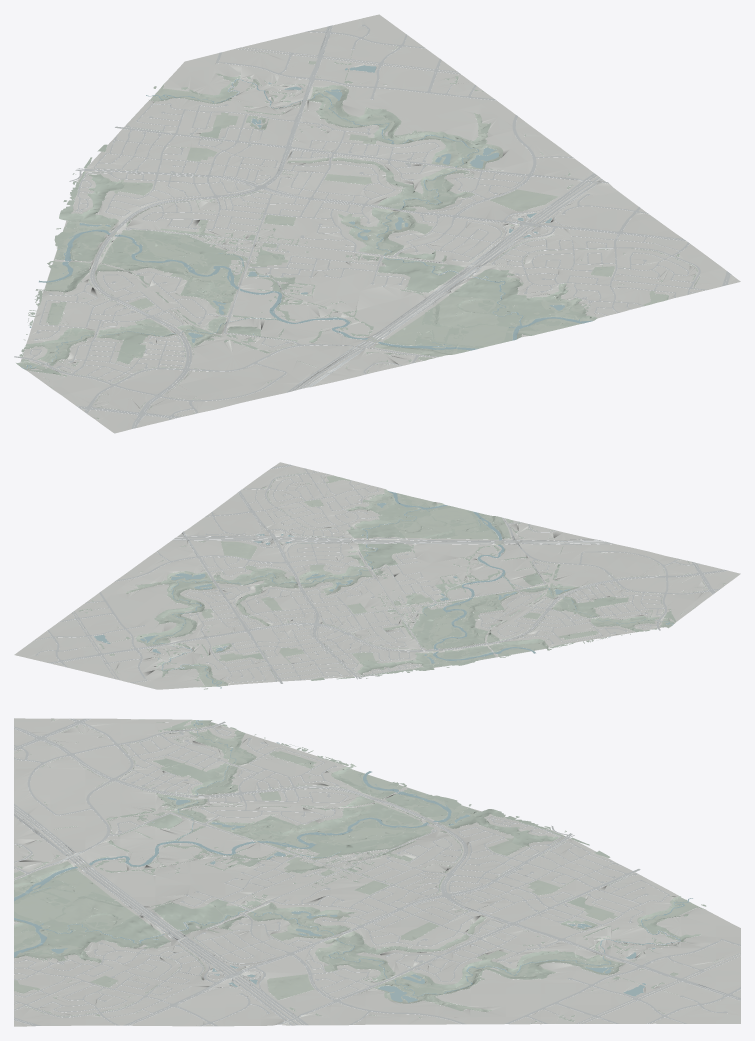
Rendered from meadowvale-village-consistent-display-context.glb.
3 renders of one model, top to bottom at view 1: azimuth 30°, elevation 25°; view 2: azimuth 150°, elevation 25°; view 3: azimuth 270°, elevation 25°, orthographic. The views are drawn at different scales.
Parts seen in each view (by area): view 1: terrain, WoodedArea, RoadPaved, Park, River, Shoreline; view 2: terrain, RoadPaved, WoodedArea, Park, River, Shoreline; view 3: terrain, WoodedArea, RoadPaved, Park, River, Shoreline.
Boxes of the visible parts, bbox=[...] form: terrain: bbox=[20, 14, 740, 433]; WoodedArea: bbox=[16, 46, 699, 419]; RoadPaved: bbox=[14, 24, 731, 433]; Park: bbox=[21, 61, 668, 370]; River: bbox=[21, 79, 592, 368]; Shoreline: bbox=[29, 65, 564, 342]; terrain: bbox=[14, 462, 740, 689]; RoadPaved: bbox=[34, 464, 740, 683]; WoodedArea: bbox=[56, 472, 725, 689]; Park: bbox=[109, 475, 674, 687]; River: bbox=[153, 491, 673, 688]; Shoreline: bbox=[94, 503, 610, 663]; terrain: bbox=[14, 718, 740, 1026]; WoodedArea: bbox=[14, 719, 723, 1023]; RoadPaved: bbox=[14, 718, 740, 1026]; Park: bbox=[14, 720, 705, 1012]; River: bbox=[14, 720, 692, 996]; Shoreline: bbox=[51, 742, 654, 1002].
Bounding box in the file's own units: 4600 × 48.42 × 4600.
